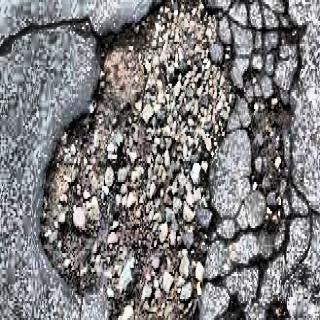alligator-crack: (223, 0, 312, 315)
pothole: (38, 0, 236, 318), (247, 84, 293, 204)
